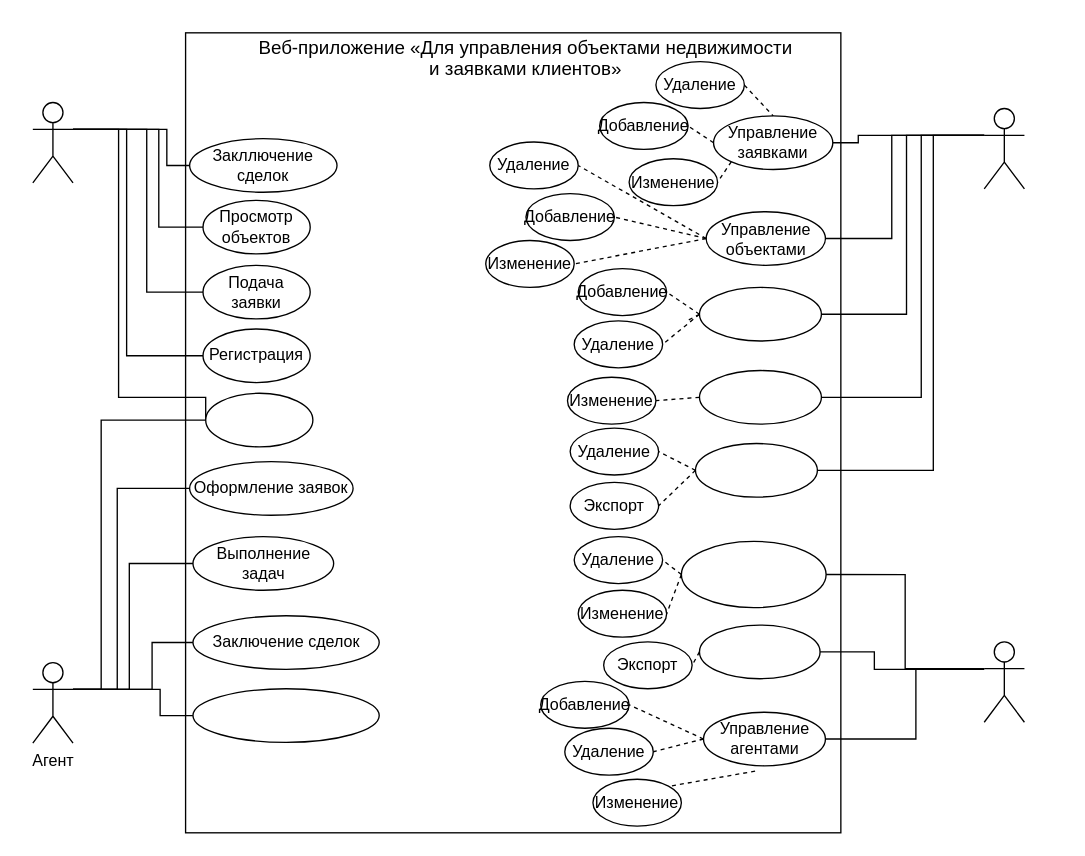
This 1085x856 diagram has some shape labels left out. Each missing label, with the box of its shape:
Авторизация: (204, 392, 313, 447)
Администратор: (983, 107, 1024, 189)
Клиент: (31, 101, 73, 183)
Менеджер: (983, 641, 1024, 722)
Просмотр отчетов: (698, 624, 820, 679)
Составление договора: (192, 687, 379, 742)
Управление бэкапами: (698, 286, 821, 341)
Управление договорами сделок: (680, 540, 826, 608)
Управление логами: (694, 442, 817, 497)
Управление сделками: (698, 369, 821, 424)
